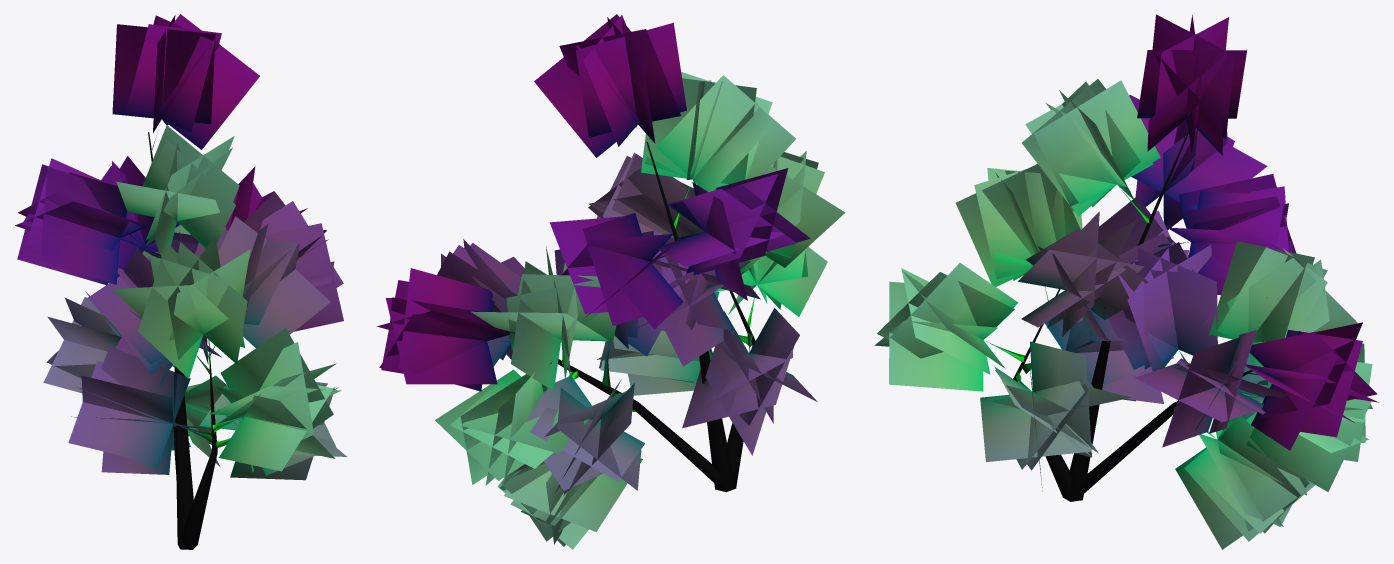
Rendered from URP_P6_Tree_7_LOD_3.fbx.
The picture shows the model from 3 angles, left to right: view 1: azimuth 30°, elevation 25°; view 2: azimuth 150°, elevation 25°; view 3: azimuth 270°, elevation 25°; orthographic projection. The views are drawn at different scales.
Parts seen in each view (by area): view 1: Tree_7_LOD_3; view 2: Tree_7_LOD_3; view 3: Tree_7_LOD_3.
Part boxes in pixels (box(x1,y1,x2,y2)): Tree_7_LOD_3: box(15, 14, 346, 549); Tree_7_LOD_3: box(376, 14, 845, 549); Tree_7_LOD_3: box(874, 14, 1378, 549).
Size of the model in its own units: 611 by 843 by 773.
